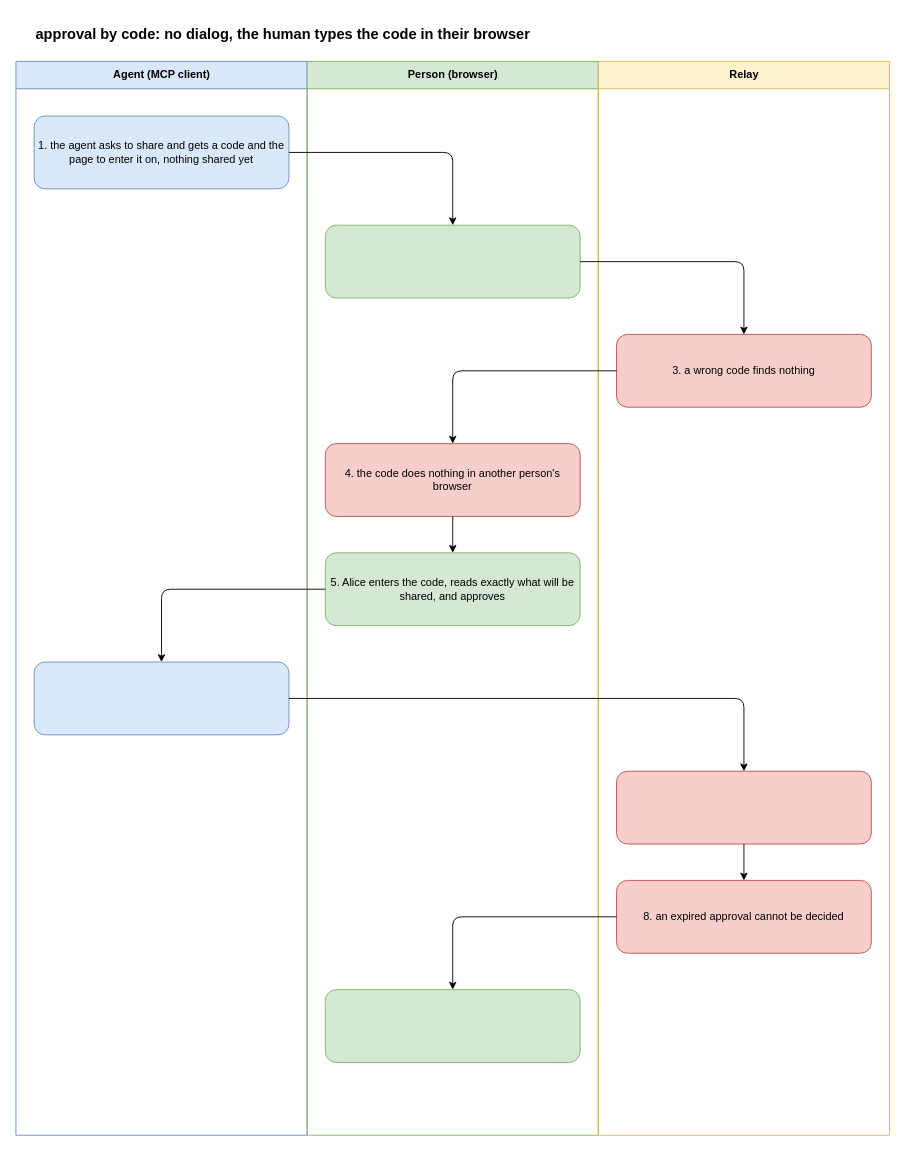
Some shapes in this 905 by 1151 pixel diagram are drawn without their labels. The centre of each missing label's shape, as x and y in pixels:
2. Alice opens the page from her dashboard: the point at 452,261
6. the agent learns the outcome from its inbox, without the text: the point at 161,698
7. a used code cannot decide again: the point at 743,807
9. a decline in the browser reaches the agent's inbox too: the point at 452,1025
